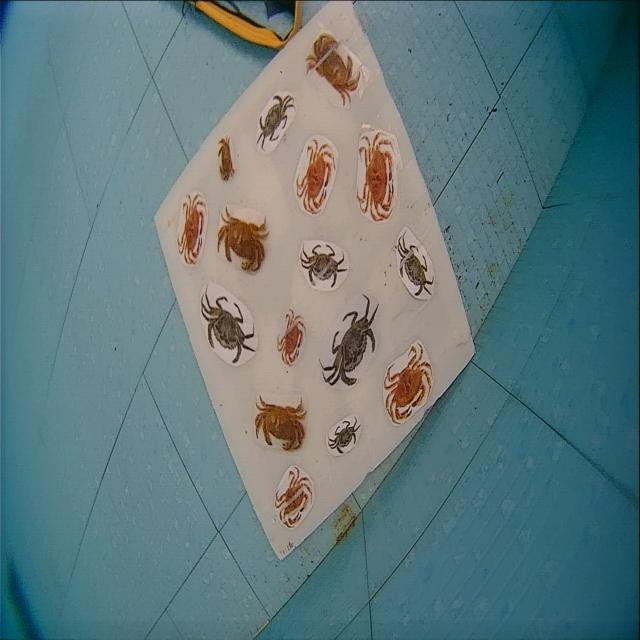GreenCrab: (319, 295, 379, 385), (201, 291, 255, 363), (398, 232, 433, 295), (256, 95, 293, 150), (301, 244, 346, 286), (328, 421, 360, 453)
